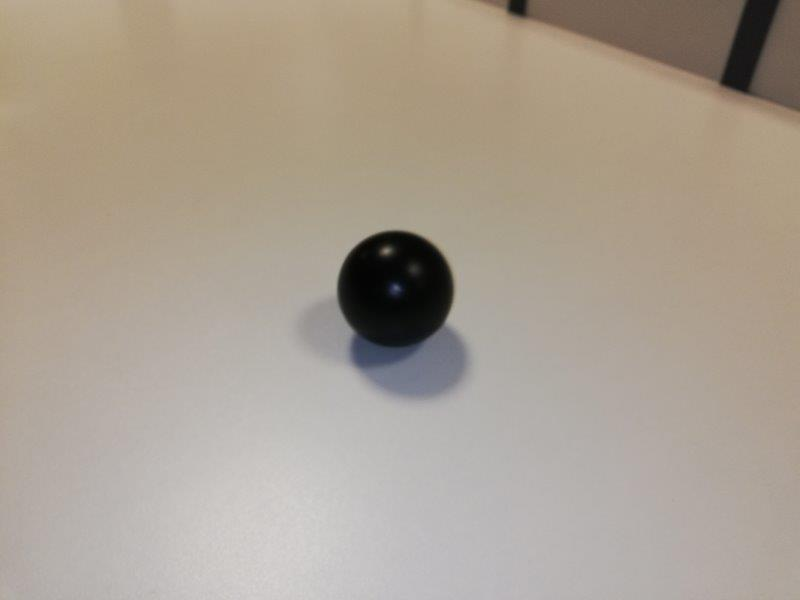nera: (336, 229, 455, 348)
